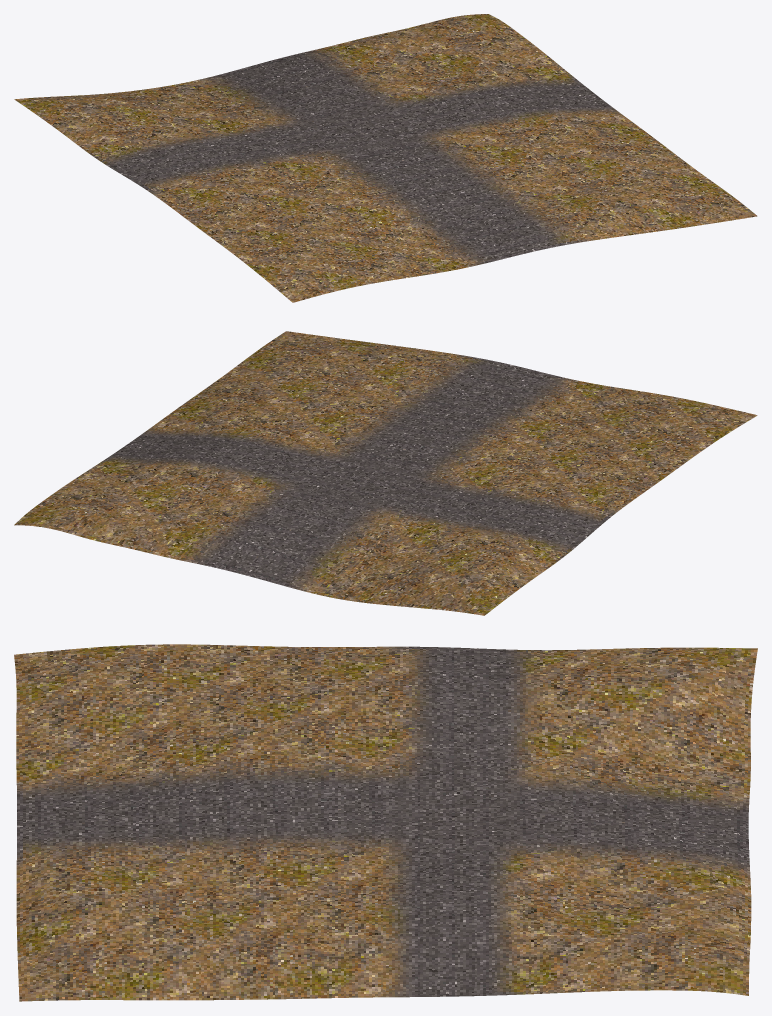
File: landscape.glb
3 renders of one model, top to bottom at view 1: azimuth 30°, elevation 25°; view 2: azimuth 150°, elevation 25°; view 3: azimuth 270°, elevation 25°, orthographic. The views are drawn at different scales.
Visible parts, largest first — view 1: Plane; view 2: Plane; view 3: Plane.
Boxes of the visible parts, <box> form: Plane: <box>14,14,757,302</box>; Plane: <box>14,331,757,615</box>; Plane: <box>14,644,757,1001</box>.
Bounding box in the file's own units: 60.56 × 4.38 × 61.28.
1 material, 1 textured.
